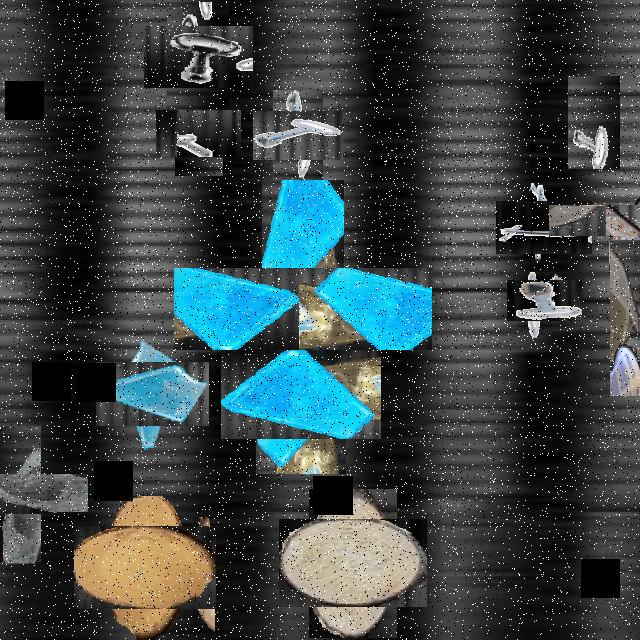glass: (238, 332, 364, 457), (108, 350, 196, 439), (0, 449, 64, 538)
metal: (155, 14, 241, 100), (506, 190, 582, 265), (263, 100, 333, 170), (568, 76, 620, 169), (166, 100, 232, 167), (516, 271, 574, 330)
plastic: (218, 224, 388, 395), (578, 174, 640, 266), (610, 240, 640, 396)
wood: (294, 504, 412, 623), (88, 511, 202, 624), (193, 518, 215, 638)
